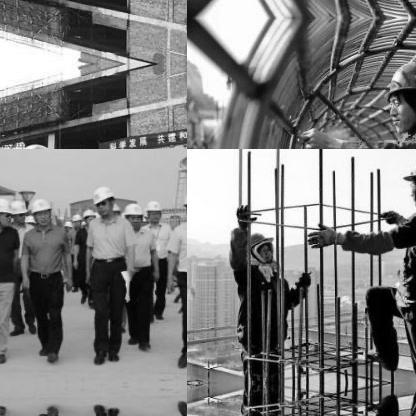Helmet: (377, 54, 415, 136), (249, 228, 274, 266), (90, 183, 116, 217), (29, 192, 52, 226), (403, 150, 415, 206), (121, 196, 143, 226), (144, 194, 162, 224), (0, 197, 14, 228), (12, 196, 26, 224), (179, 185, 186, 221), (82, 206, 96, 224), (72, 210, 82, 226)
